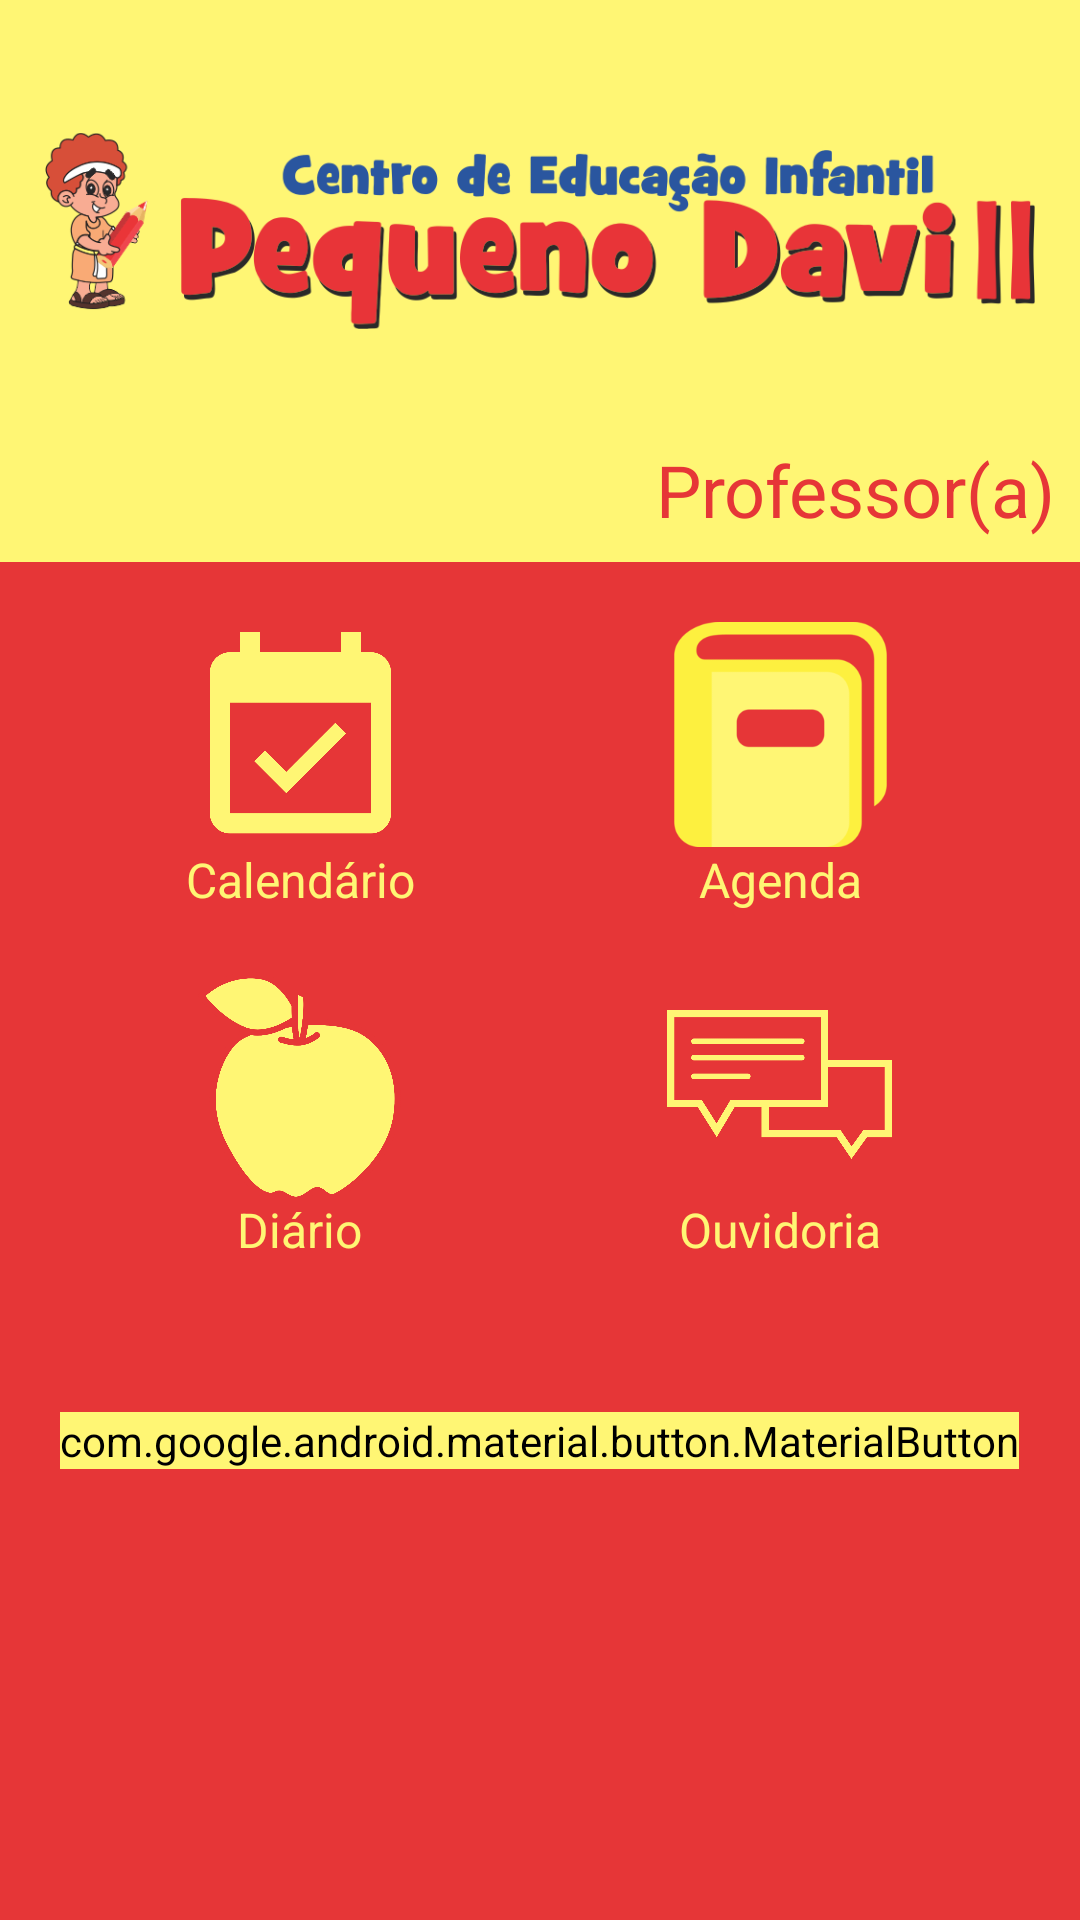

Point at icon controls on the screen. Image size 1080w x 1920h, points as point (x, y).
chat: point (779, 1084)
